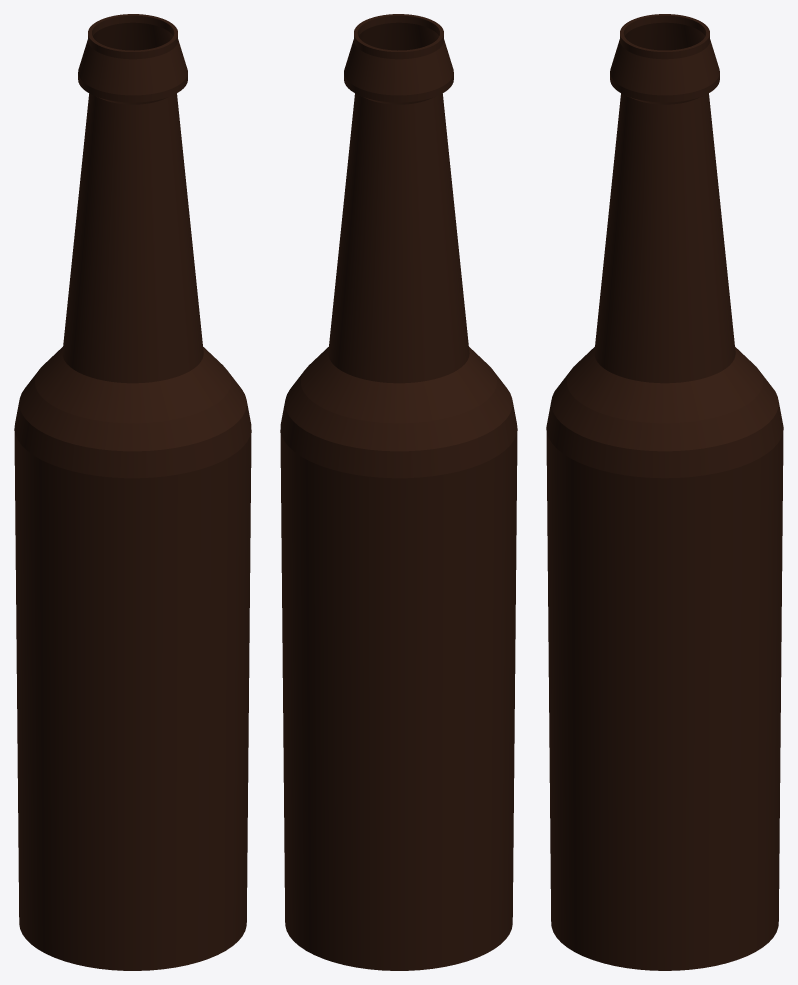
3 views of the same model, side by side, from view 1: azimuth 30°, elevation 25°; view 2: azimuth 150°, elevation 25°; view 3: azimuth 270°, elevation 25° (orthographic).
Parts seen in each view (by area): view 1: bottle_skin; view 2: bottle_skin; view 3: bottle_skin.
Boxes of the visible parts, x1=… form: bottle_skin: x1=14, y1=14, x2=251, y2=970; bottle_skin: x1=280, y1=14, x2=517, y2=970; bottle_skin: x1=546, y1=14, x2=783, y2=970.
Size of the model in its own units: 0.0603 by 0.25 by 0.0604.
